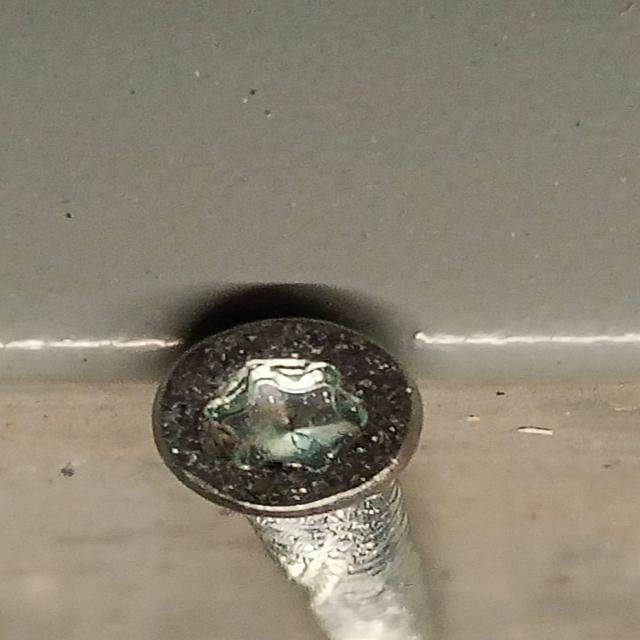torx: (151, 312, 425, 516)
